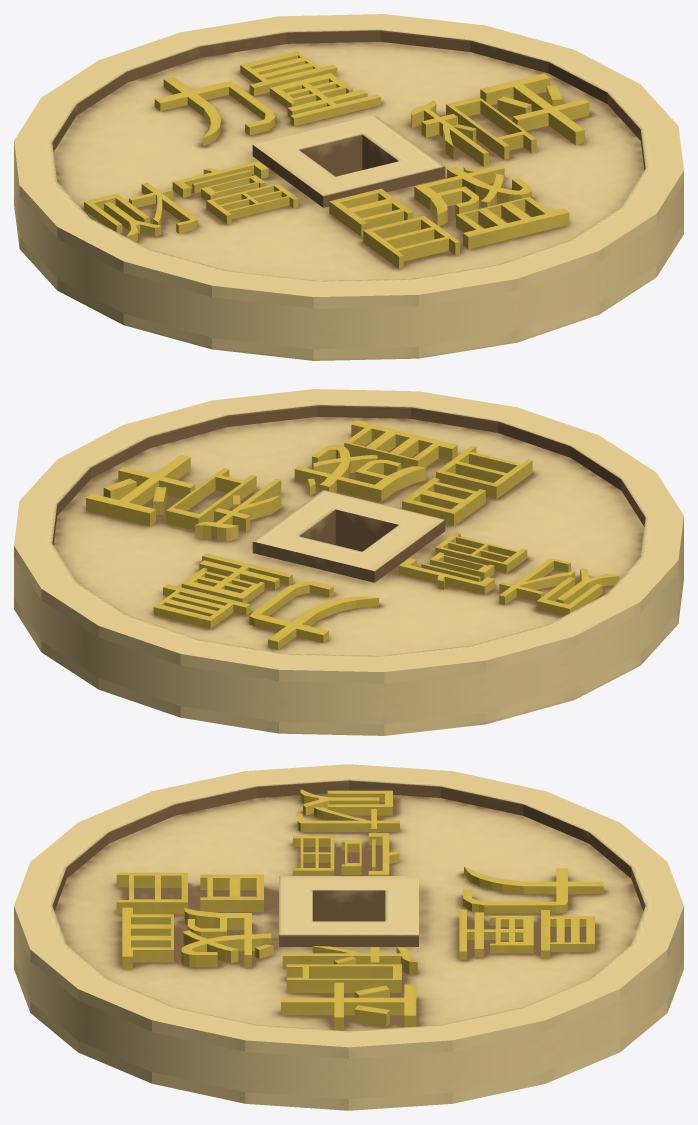
File: coin.glb
3 renders of one model, top to bottom at view 1: azimuth 30°, elevation 25°; view 2: azimuth 150°, elevation 25°; view 3: azimuth 270°, elevation 25°, orthographic.
Parts seen in each view (by area): view 1: Object_2; view 2: Object_2; view 3: Object_2.
Part boxes in pixels (left/top/right/bottom): Object_2: left=14, top=14, right=683, bottom=360; Object_2: left=14, top=389, right=683, bottom=735; Object_2: left=14, top=764, right=683, bottom=1110.
Bounding box in the file's own units: 9.19 × 1 × 9.19.
Materials: 1 (1 with a texture image).
